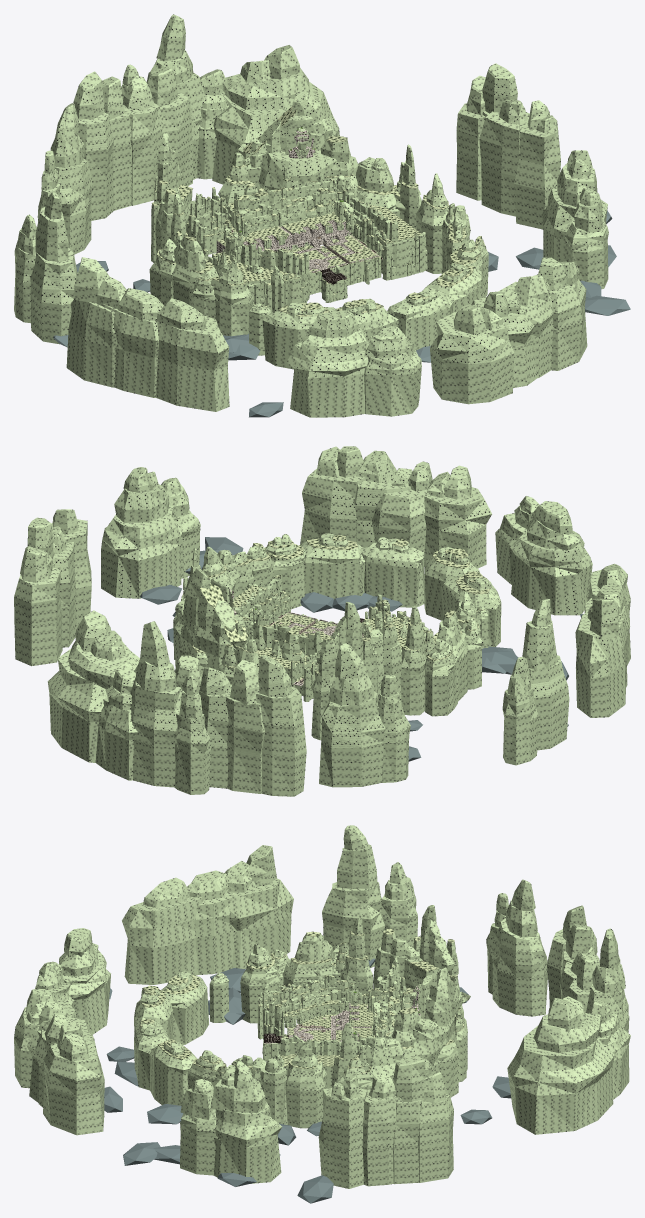
The model's file is LOBBY_02_TERRAIN_286566.fbx.
3 renders of one model, top to bottom at view 1: azimuth 30°, elevation 25°; view 2: azimuth 150°, elevation 25°; view 3: azimuth 270°, elevation 25°, orthographic. The views are drawn at different scales.
Parts seen in each view (by area): view 1: TER_Mountains_Peaks__Cliff_Rock_Far_Dark, TER_Mountains_Peaks__Cliff_Rock_Far, TER_Mountains_Peaks__Cliff_Rock_Mid_Dark, TER_Mountains_Peaks__Cliff_Rock_Mid, TER_Far_Valley__Far_Haze, TER_Mountains_Near__Cliff_Rock, TER_Mountains_Near__Cliff_Rock_Dark, TER_Mountains_Peaks__Grass_Dark, TER_Mountains_Near__Cliff_Rock_Top, TER_Mountains_Near__Cliff_Rock_Mid, TER_Mountains_Near__Cliff_Rock_Mid_Dark, TER_Mountains_Near__Grass_Dark (+6 smaller); view 2: TER_Mountains_Peaks__Cliff_Rock_Far_Dark, TER_Mountains_Peaks__Cliff_Rock_Far, TER_Mountains_Peaks__Cliff_Rock_Mid_Dark, TER_Mountains_Peaks__Cliff_Rock_Mid, TER_Far_Valley__Far_Haze, TER_Mountains_Peaks__Grass_Dark, TER_Mountains_Near__Grass_Dark, TER_Mountains_Near__Cliff_Rock_Mid, TER_Mountains_Near__Cliff_Rock_Top, TER_Mountains_Near__Cliff_Rock_Mid_Dark, TER_Mountains_Near__Cliff_Rock_Dark, TER_Mountains_Near__Cliff_Rock (+1 smaller); view 3: TER_Mountains_Peaks__Cliff_Rock_Far_Dark, TER_Mountains_Peaks__Cliff_Rock_Far, TER_Mountains_Peaks__Cliff_Rock_Mid_Dark, TER_Mountains_Peaks__Cliff_Rock_Mid, TER_Far_Valley__Far_Haze, TER_Mountains_Peaks__Grass_Dark, TER_Mountains_Near__Cliff_Rock_Dark, TER_Mountains_Near__Cliff_Rock_Top, TER_Mountains_Near__Cliff_Rock, TER_Mountains_Near__Cliff_Rock_Mid, TER_Mountains_Near__Cliff_Rock_Mid_Dark, TER_Mountains_Near__Grass (+2 smaller).
Boxes of the visible parts, x1,y1,x2,y2 form: TER_Mountains_Peaks__Cliff_Rock_Far_Dark: (14, 14, 603, 417); TER_Mountains_Peaks__Cliff_Rock_Far: (16, 60, 608, 416); TER_Mountains_Peaks__Cliff_Rock_Mid_Dark: (149, 88, 488, 369); TER_Mountains_Peaks__Cliff_Rock_Mid: (151, 111, 485, 355); TER_Far_Valley__Far_Haze: (53, 210, 630, 417); TER_Mountains_Near__Cliff_Rock: (197, 195, 426, 312); TER_Mountains_Near__Cliff_Rock_Dark: (186, 197, 424, 313); TER_Mountains_Peaks__Grass_Dark: (151, 106, 485, 316); TER_Mountains_Near__Cliff_Rock_Top: (198, 186, 425, 292); TER_Mountains_Near__Cliff_Rock_Mid: (190, 172, 356, 234); TER_Mountains_Near__Cliff_Rock_Mid_Dark: (188, 167, 350, 239); TER_Mountains_Near__Grass_Dark: (187, 177, 421, 281); TER_Mountains_Peaks__Cliff_Rock_Far_Dark: (20, 446, 630, 796); TER_Mountains_Peaks__Cliff_Rock_Far: (14, 446, 630, 794); TER_Mountains_Peaks__Cliff_Rock_Mid_Dark: (173, 533, 501, 740); TER_Mountains_Peaks__Cliff_Rock_Mid: (174, 537, 488, 695); TER_Far_Valley__Far_Haze: (140, 537, 583, 761); TER_Mountains_Peaks__Grass_Dark: (182, 535, 490, 674); TER_Mountains_Near__Grass_Dark: (232, 585, 424, 668); TER_Mountains_Near__Cliff_Rock_Mid: (244, 619, 321, 661); TER_Mountains_Near__Cliff_Rock_Top: (232, 574, 433, 655); TER_Mountains_Near__Cliff_Rock_Mid_Dark: (249, 612, 322, 655); TER_Mountains_Near__Cliff_Rock_Dark: (236, 580, 407, 677); TER_Mountains_Near__Cliff_Rock: (241, 585, 411, 643); TER_Mountains_Peaks__Cliff_Rock_Far_Dark: (26, 825, 630, 1188); TER_Mountains_Peaks__Cliff_Rock_Far: (14, 861, 629, 1186); TER_Mountains_Peaks__Cliff_Rock_Mid_Dark: (139, 920, 466, 1124); TER_Mountains_Peaks__Cliff_Rock_Mid: (134, 905, 470, 1128); TER_Far_Valley__Far_Haze: (104, 958, 511, 1203); TER_Mountains_Peaks__Grass_Dark: (140, 929, 467, 1074); TER_Mountains_Near__Cliff_Rock_Dark: (257, 980, 375, 1088); TER_Mountains_Near__Cliff_Rock_Top: (258, 975, 382, 1066); TER_Mountains_Near__Cliff_Rock: (259, 980, 379, 1055); TER_Mountains_Near__Cliff_Rock_Mid: (378, 955, 405, 1038); TER_Mountains_Near__Cliff_Rock_Mid_Dark: (375, 968, 411, 1038); TER_Mountains_Near__Grass: (258, 965, 400, 1046).
Size of the model in its own units: 1406 by 377 by 1419.
Materials: 9 (5 with a texture image).
